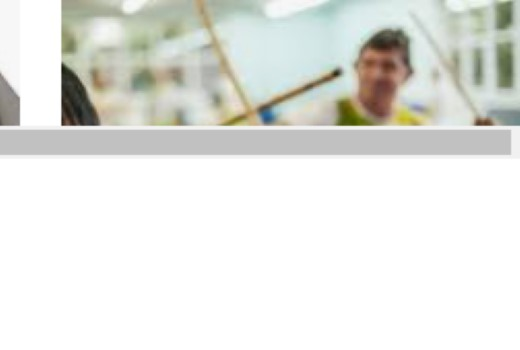baston_e: (195, 7, 262, 122), (418, 14, 480, 116), (223, 68, 332, 124)
baston_v: (329, 62, 350, 79), (403, 8, 416, 21)
